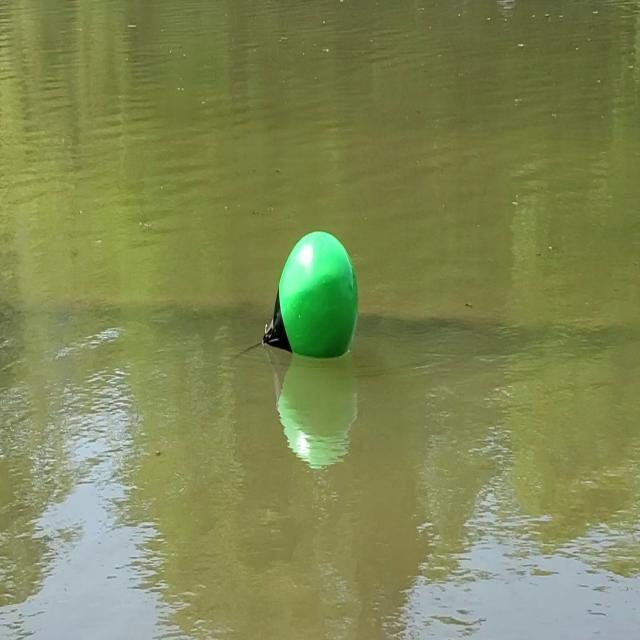buoy: (265, 225, 359, 363)
